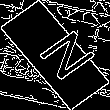N_SW: (20, 24, 90, 86)
